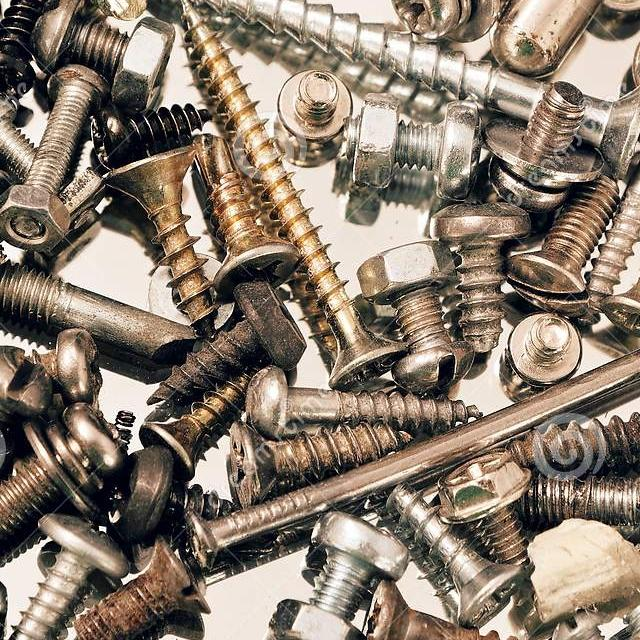metal: (171, 278, 640, 588), (103, 0, 639, 188), (0, 393, 164, 606), (340, 225, 492, 414), (236, 497, 422, 640), (232, 354, 487, 458), (462, 75, 630, 208), (0, 503, 146, 640), (340, 574, 578, 640), (251, 66, 368, 175), (362, 0, 566, 46)
